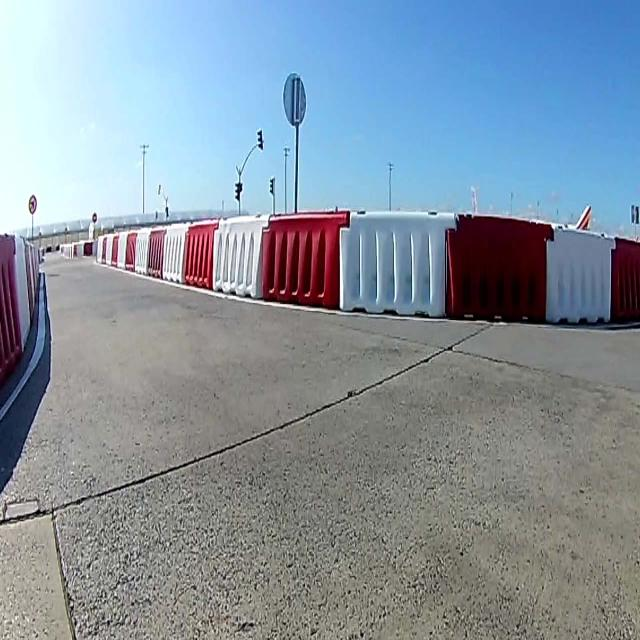soladonulmez: (28, 195, 38, 216)
